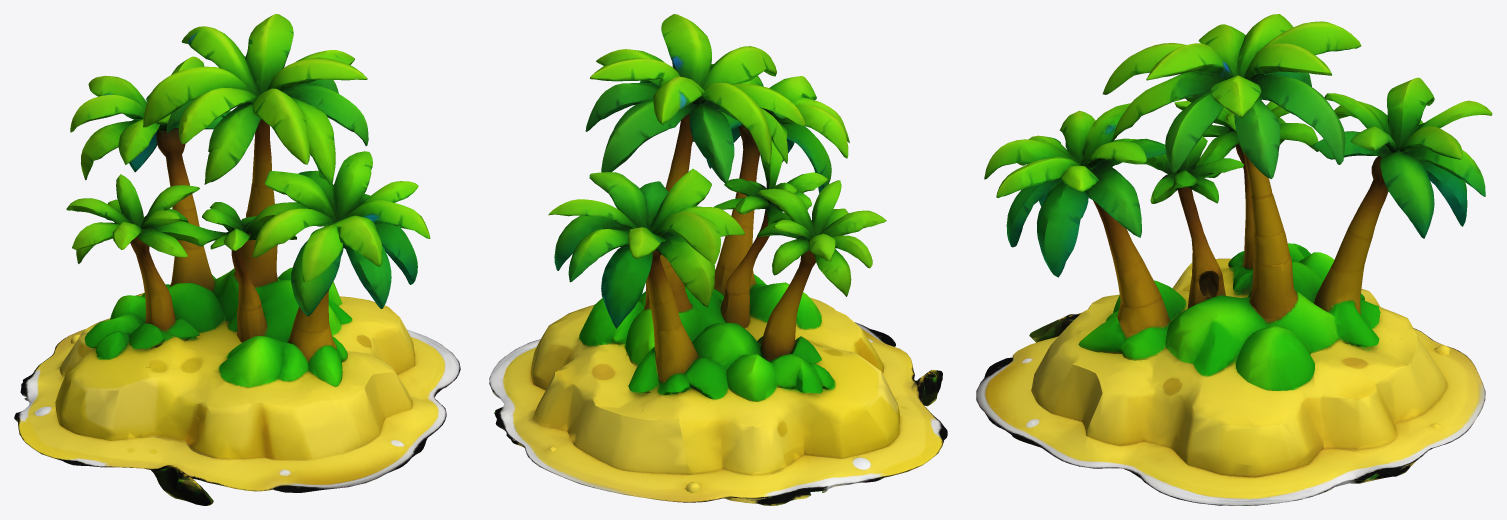
The model's file is Stylized_tropical_island_3D_model.glb.
3 views of the same model, side by side, from view 1: azimuth 30°, elevation 25°; view 2: azimuth 150°, elevation 25°; view 3: azimuth 270°, elevation 25° (orthographic). The views are drawn at different scales.
Parts seen in each view (by area): view 1: unnamed; view 2: unnamed; view 3: unnamed.
Boxes of the visible parts, x1=… form: unnamed: x1=14, y1=14, x2=460, y2=505; unnamed: x1=489, y1=14, x2=947, y2=505; unnamed: x1=976, y1=14, x2=1492, y2=505.
Size of the model in its own units: 1 by 0.8296 by 0.9846.
Materials: 1 (1 with a texture image).
